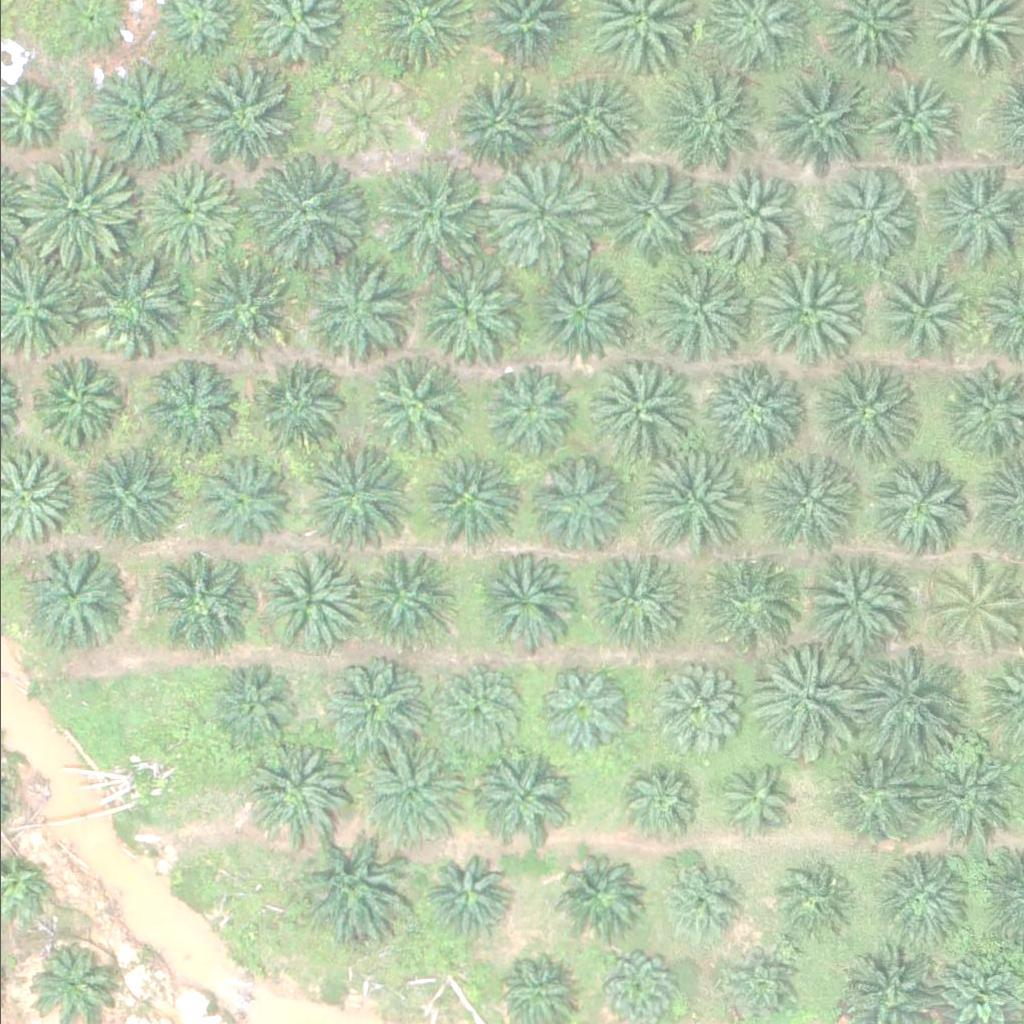Kelapa_Sawit: (370, 155, 484, 268), (747, 255, 860, 368), (640, 447, 753, 560), (295, 828, 408, 941), (78, 248, 191, 361), (245, 155, 358, 268), (749, 453, 863, 565), (750, 646, 864, 758), (842, 646, 956, 758), (24, 153, 138, 265), (758, 65, 871, 177), (486, 156, 599, 268), (643, 257, 756, 369), (801, 556, 914, 668), (358, 731, 471, 843), (300, 443, 413, 555), (179, 62, 292, 174), (86, 57, 199, 169), (544, 64, 645, 164), (644, 74, 745, 174), (817, 168, 918, 268), (701, 165, 802, 265), (536, 263, 637, 363), (870, 264, 971, 364), (813, 358, 914, 458), (705, 364, 806, 464), (580, 363, 681, 463), (528, 456, 629, 556), (869, 463, 970, 563), (693, 549, 794, 649), (578, 553, 679, 653), (470, 554, 571, 654), (915, 751, 1016, 851), (823, 749, 924, 849), (872, 847, 973, 947), (18, 543, 119, 643), (24, 348, 125, 448), (246, 737, 347, 837), (329, 662, 430, 762), (260, 546, 361, 646), (348, 546, 449, 646), (416, 450, 517, 550), (136, 164, 237, 264), (595, 158, 695, 258), (532, 662, 632, 762), (468, 748, 568, 848), (68, 448, 168, 548), (151, 552, 251, 652), (192, 448, 292, 548), (147, 360, 247, 460), (367, 352, 467, 452), (251, 357, 351, 457), (418, 263, 518, 363), (301, 263, 401, 363), (188, 255, 288, 355), (448, 65, 548, 165), (612, 753, 701, 841), (436, 667, 525, 755), (759, 859, 847, 947), (317, 74, 405, 162), (706, 750, 794, 837), (655, 853, 743, 940), (555, 849, 643, 936), (872, 75, 960, 162), (484, 366, 572, 453), (643, 669, 731, 756), (418, 854, 506, 941), (211, 663, 299, 750)
